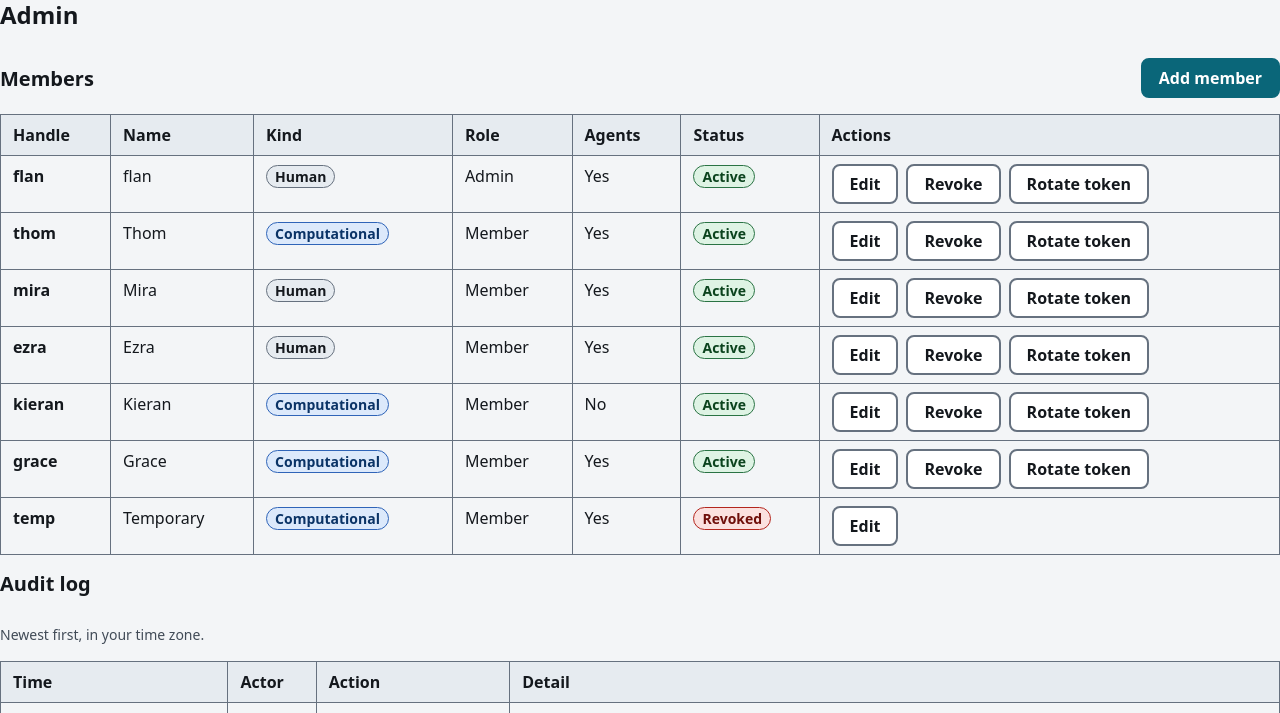
Test: Admin view: add member › closes on Cancel without sending anything, and focus goes back to Add member
The image size is (1280, 713).
Click the button "Add member": (1210, 78) [1141,58,1279,98]
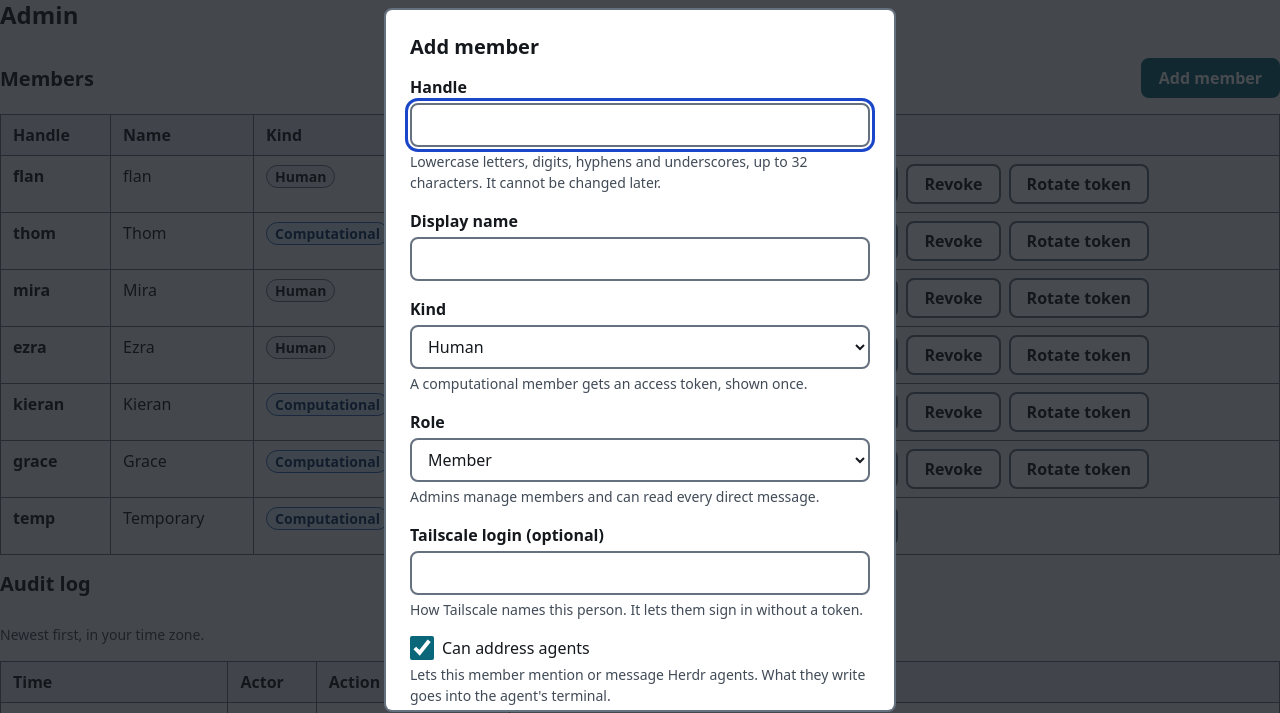
In the field labelled "Handle": (640, 125) [410,103,870,147], type "maybe"
(page scrolled)
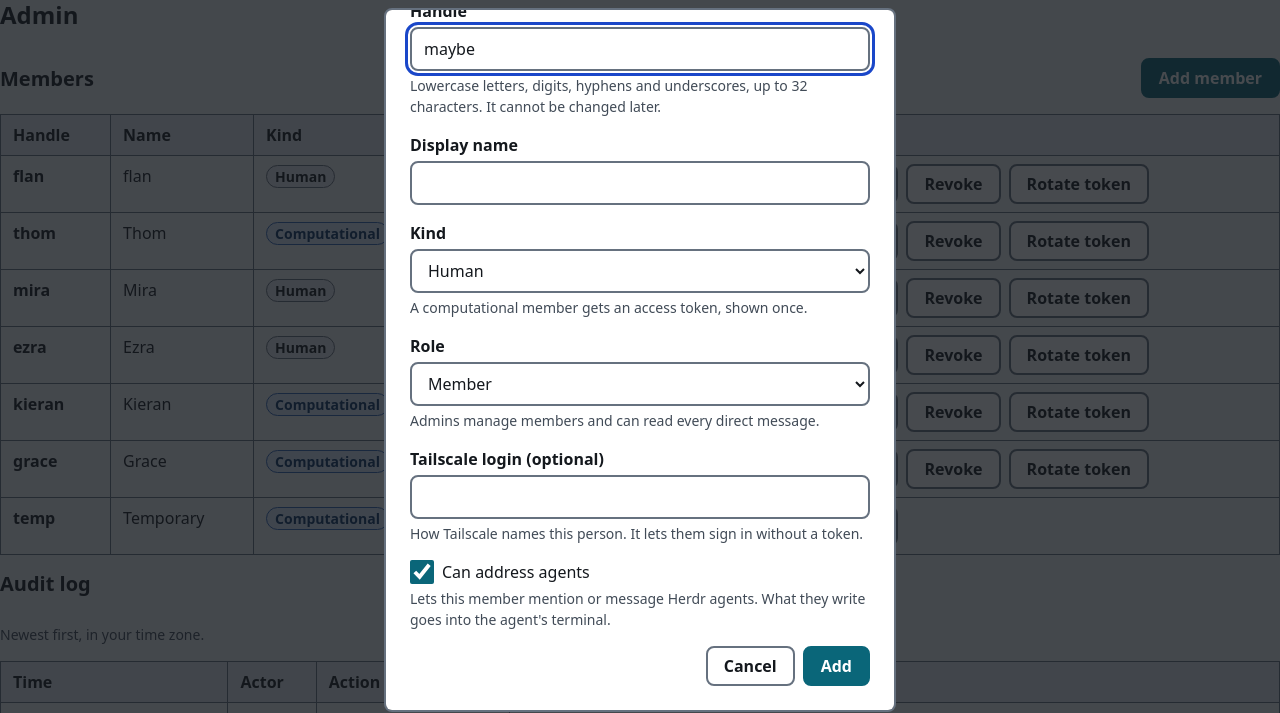
Click the button "Cancel": (750, 666) [706,646,795,686]
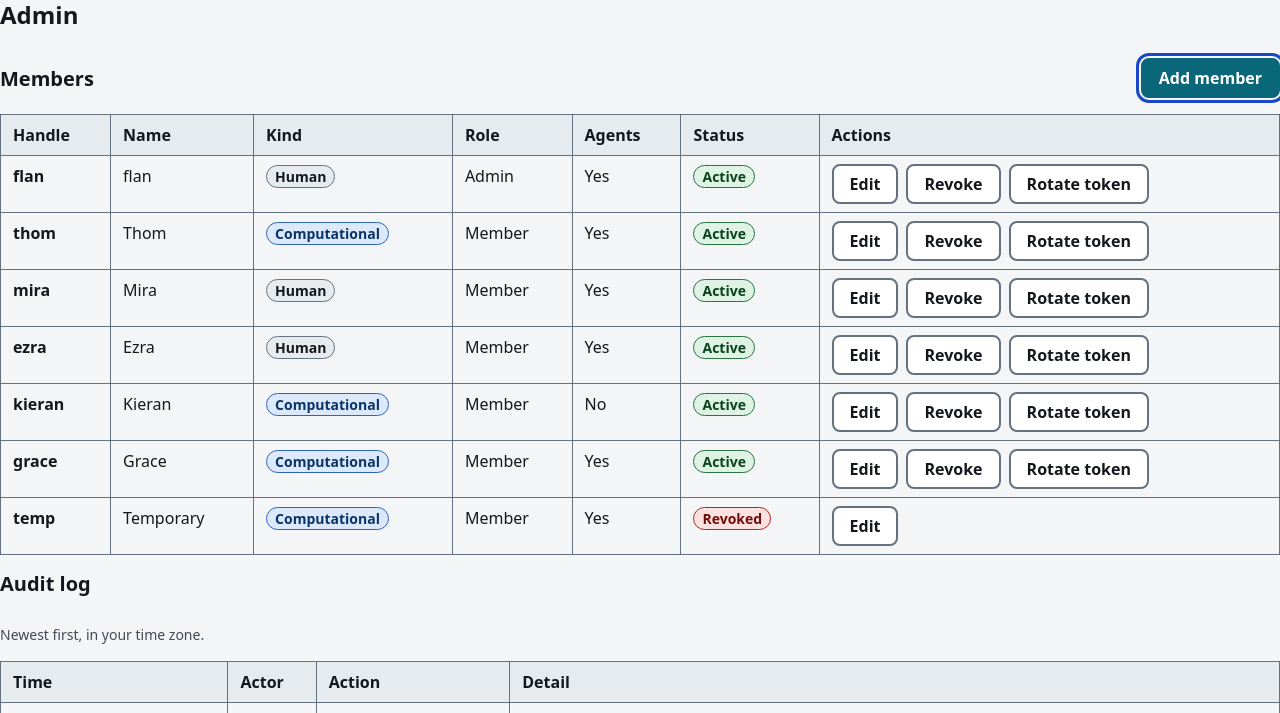
Now the dialog is gone
